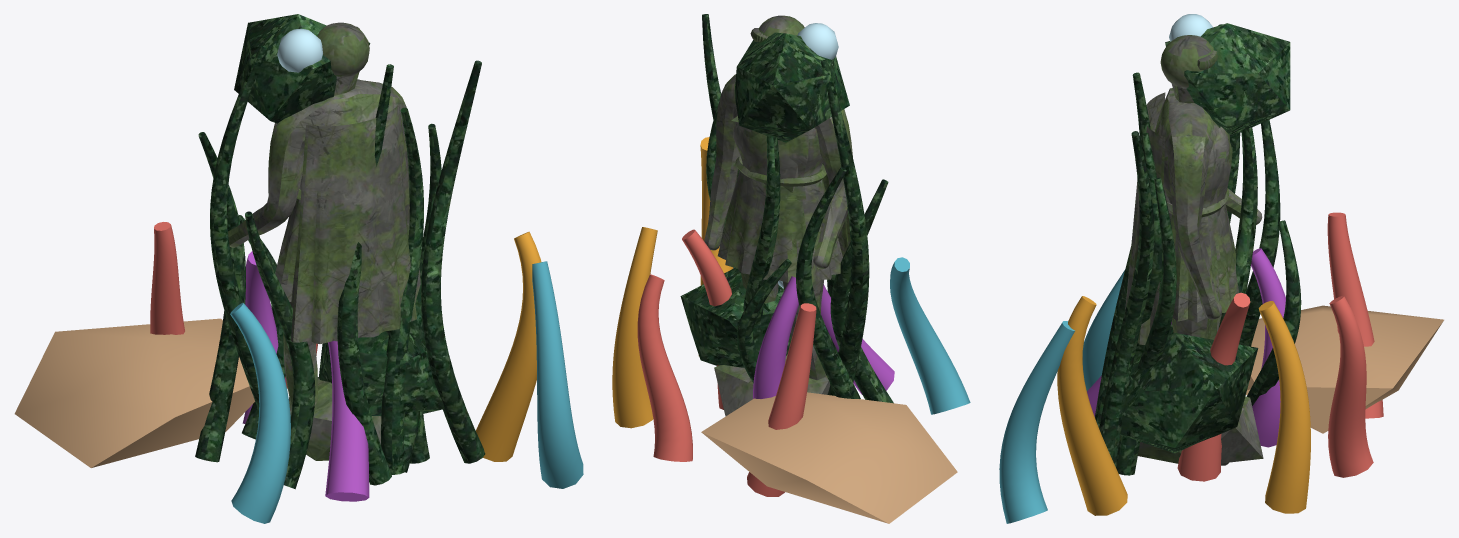
File: Podwodne.glb
The picture shows the model from 3 angles, left to right: view 1: azimuth 30°, elevation 25°; view 2: azimuth 150°, elevation 25°; view 3: azimuth 270°, elevation 25°; orthographic projection. The views are drawn at different scales.
Parts seen in each view (by area): view 1: wodorosty__leaf_ivy, zatopiony_posag__rock_mossy, koral__coral_brain, koral__coral(90, 180, 200), zatopiony_posag__leaf_ivy, koral__coral(240, 170, 60), koral__coral(180, 90, 200), koral__coral(230, 110, 100), babelki__rock_mossy, babelki__bubble; view 2: koral__coral_brain, zatopiony_posag__rock_mossy, wodorosty__leaf_ivy, zatopiony_posag__leaf_ivy, koral__coral(230, 110, 100), koral__coral(240, 170, 60), koral__coral(90, 180, 200), koral__coral(180, 90, 200), babelki__rock_mossy, babelki__bubble; view 3: wodorosty__leaf_ivy, zatopiony_posag__leaf_ivy, zatopiony_posag__rock_mossy, koral__coral(240, 170, 60), koral__coral(230, 110, 100), koral__coral_brain, koral__coral(90, 180, 200), koral__coral(180, 90, 200), babelki__rock_mossy, babelki__bubble.
Part boxes in pixels (box(x1,y1,x2,y2)): wodorosty__leaf_ivy: box(195, 45, 485, 489); zatopiony_posag__rock_mossy: box(228, 22, 420, 407); koral__coral_brain: box(14, 318, 254, 467); koral__coral(90, 180, 200): box(230, 261, 583, 523); zatopiony_posag__leaf_ivy: box(234, 14, 453, 416); koral__coral(240, 170, 60): box(476, 231, 541, 461); koral__coral(180, 90, 200): box(242, 251, 369, 501); koral__coral(230, 110, 100): box(150, 222, 317, 388); babelki__rock_mossy: box(289, 377, 381, 460); babelki__bubble: box(277, 28, 322, 72); koral__coral_brain: box(701, 392, 957, 523); zatopiony_posag__rock_mossy: box(704, 15, 852, 380); wodorosty__leaf_ivy: box(702, 14, 893, 403); zatopiony_posag__leaf_ivy: box(680, 32, 849, 367); koral__coral(230, 110, 100): box(637, 229, 816, 496); koral__coral(240, 170, 60): box(612, 137, 733, 428); koral__coral(90, 180, 200): box(733, 257, 970, 414); koral__coral(180, 90, 200): box(753, 276, 894, 398); babelki__rock_mossy: box(714, 354, 830, 416); babelki__bubble: box(778, 23, 838, 288); wodorosty__leaf_ivy: box(1095, 24, 1301, 475); zatopiony_posag__leaf_ivy: box(1120, 23, 1290, 453); zatopiony_posag__rock_mossy: box(1125, 35, 1262, 465); koral__coral(240, 170, 60): box(1057, 296, 1310, 515); koral__coral(230, 110, 100): box(1177, 212, 1383, 481); koral__coral_brain: box(1246, 305, 1443, 433); koral__coral(90, 180, 200): box(999, 269, 1125, 523); koral__coral(180, 90, 200): box(1087, 248, 1285, 447); babelki__rock_mossy: box(1138, 396, 1263, 463); babelki__bubble: box(1169, 14, 1212, 41).
Bounding box in the file's own units: 4.93 × 5.44 × 5.11.
Materials: 8 (2 with a texture image).
